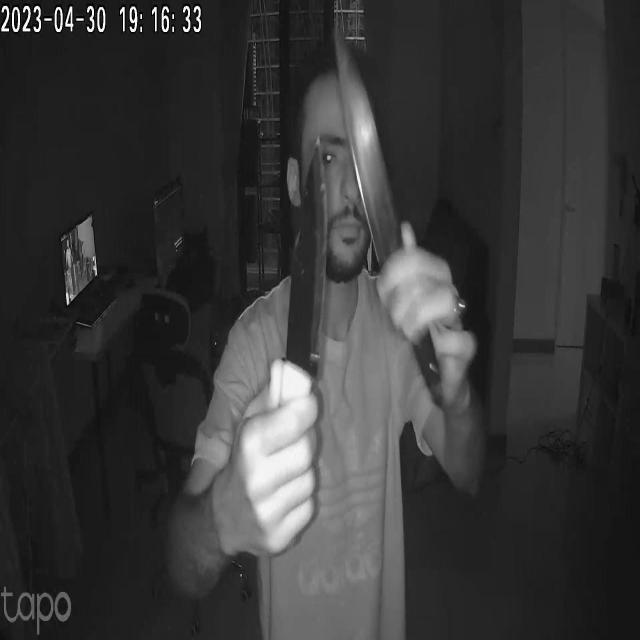Knife: (325, 13, 407, 324), (286, 139, 333, 383)
